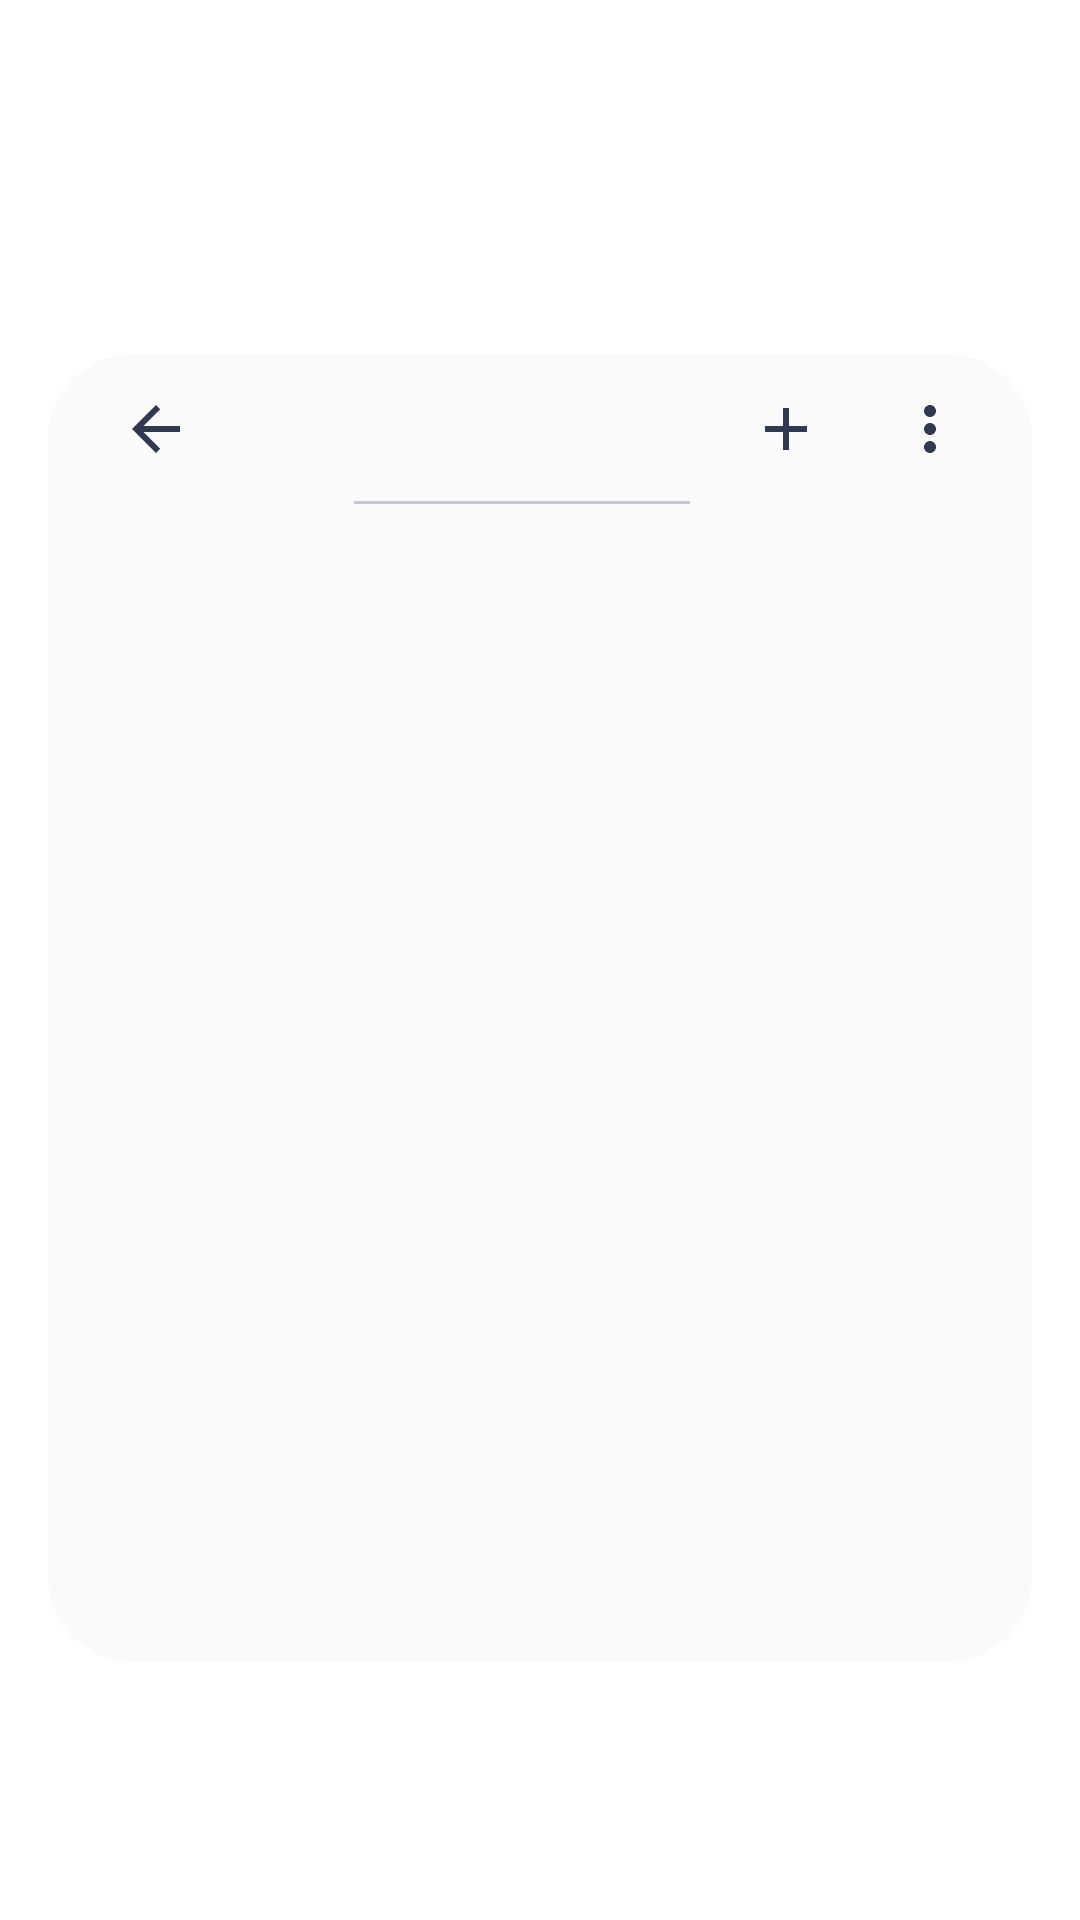

Icon bounding boxes for this 1080px x 1920px phone screenshot, format {"x1": x1, "y1": y1, "x2": x2, "y2": y2}:
Back: {"x1": 132, "y1": 405, "x2": 180, "y2": 453}
More options: {"x1": 924, "y1": 405, "x2": 936, "y2": 453}
New Tab: {"x1": 765, "y1": 408, "x2": 807, "y2": 450}
